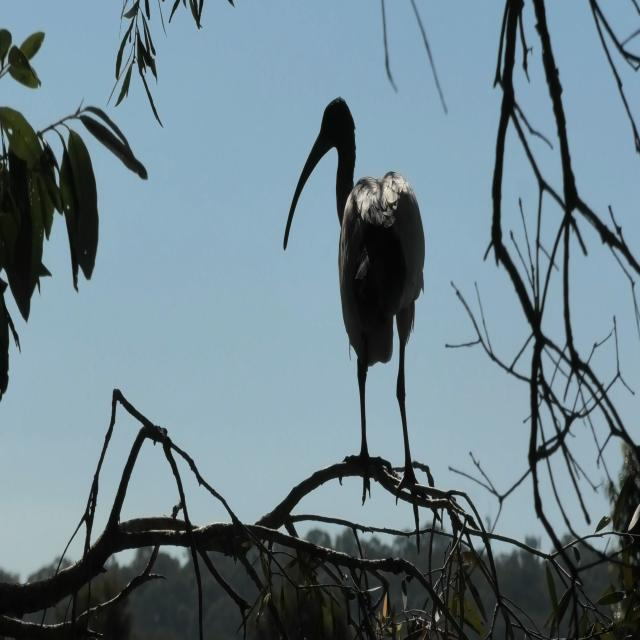Birds-Ibis: (281, 90, 446, 557)
